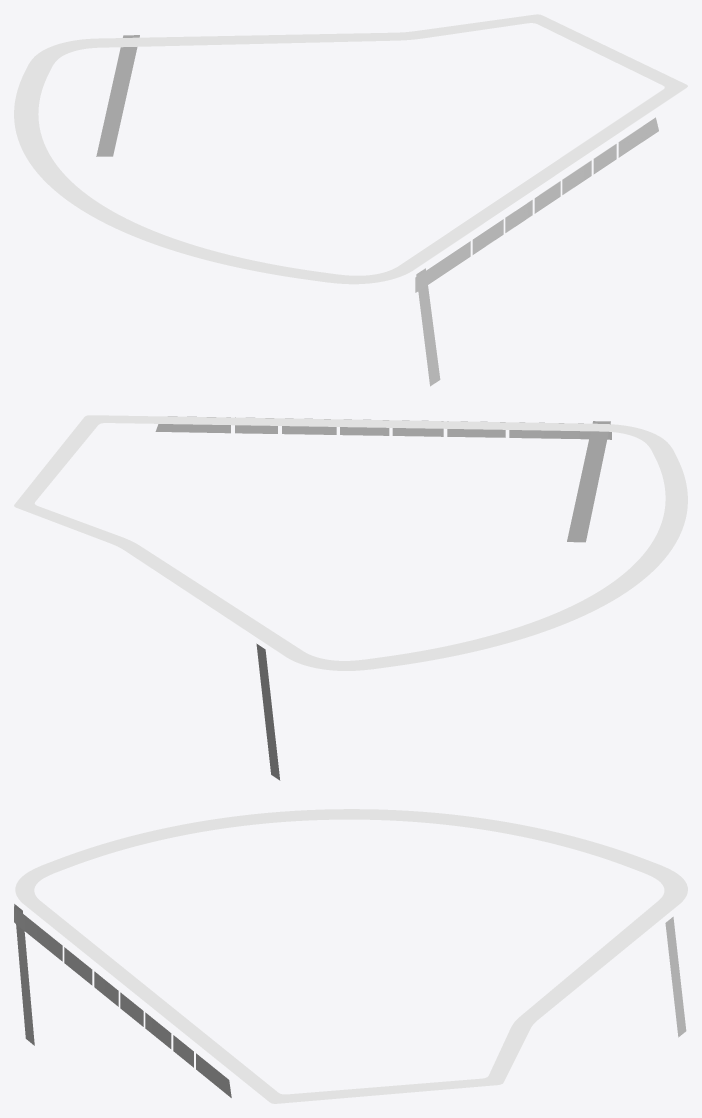
Rendered from CD_JZ_vr_lightblend01.FBX.
The picture shows the model from 3 angles, top to bottom: view 1: azimuth 30°, elevation 25°; view 2: azimuth 150°, elevation 25°; view 3: azimuth 270°, elevation 25°; orthographic projection. The views are drawn at different scales.
Parts seen in each view (by area): view 1: CD_JZ_vr_lightblend01; view 2: CD_JZ_vr_lightblend01; view 3: CD_JZ_vr_lightblend01.
Boxes of the visible parts, x1=… form: CD_JZ_vr_lightblend01: x1=14, y1=14, x2=687, y2=386; CD_JZ_vr_lightblend01: x1=14, y1=415, x2=687, y2=780; CD_JZ_vr_lightblend01: x1=14, y1=809, x2=687, y2=1103.
Size of the model in its own units: 3249 by 646 by 3140.
Materials: 1 (1 with a texture image).
